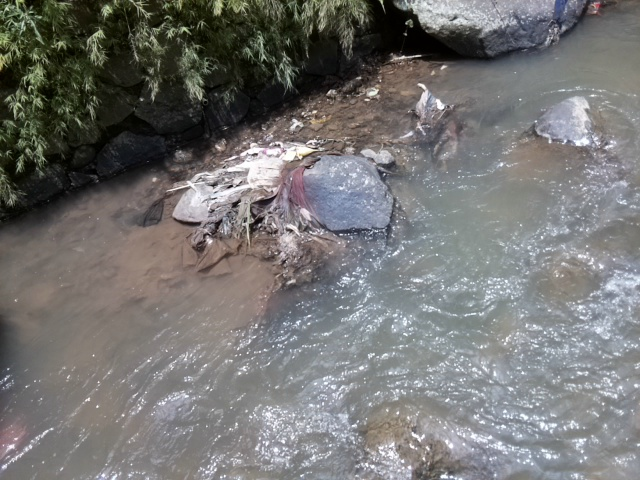Sampah_Plastik: (183, 141, 323, 272)
